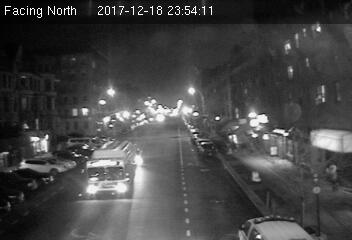bus: (84, 140, 136, 199)
police: (238, 214, 314, 239)
